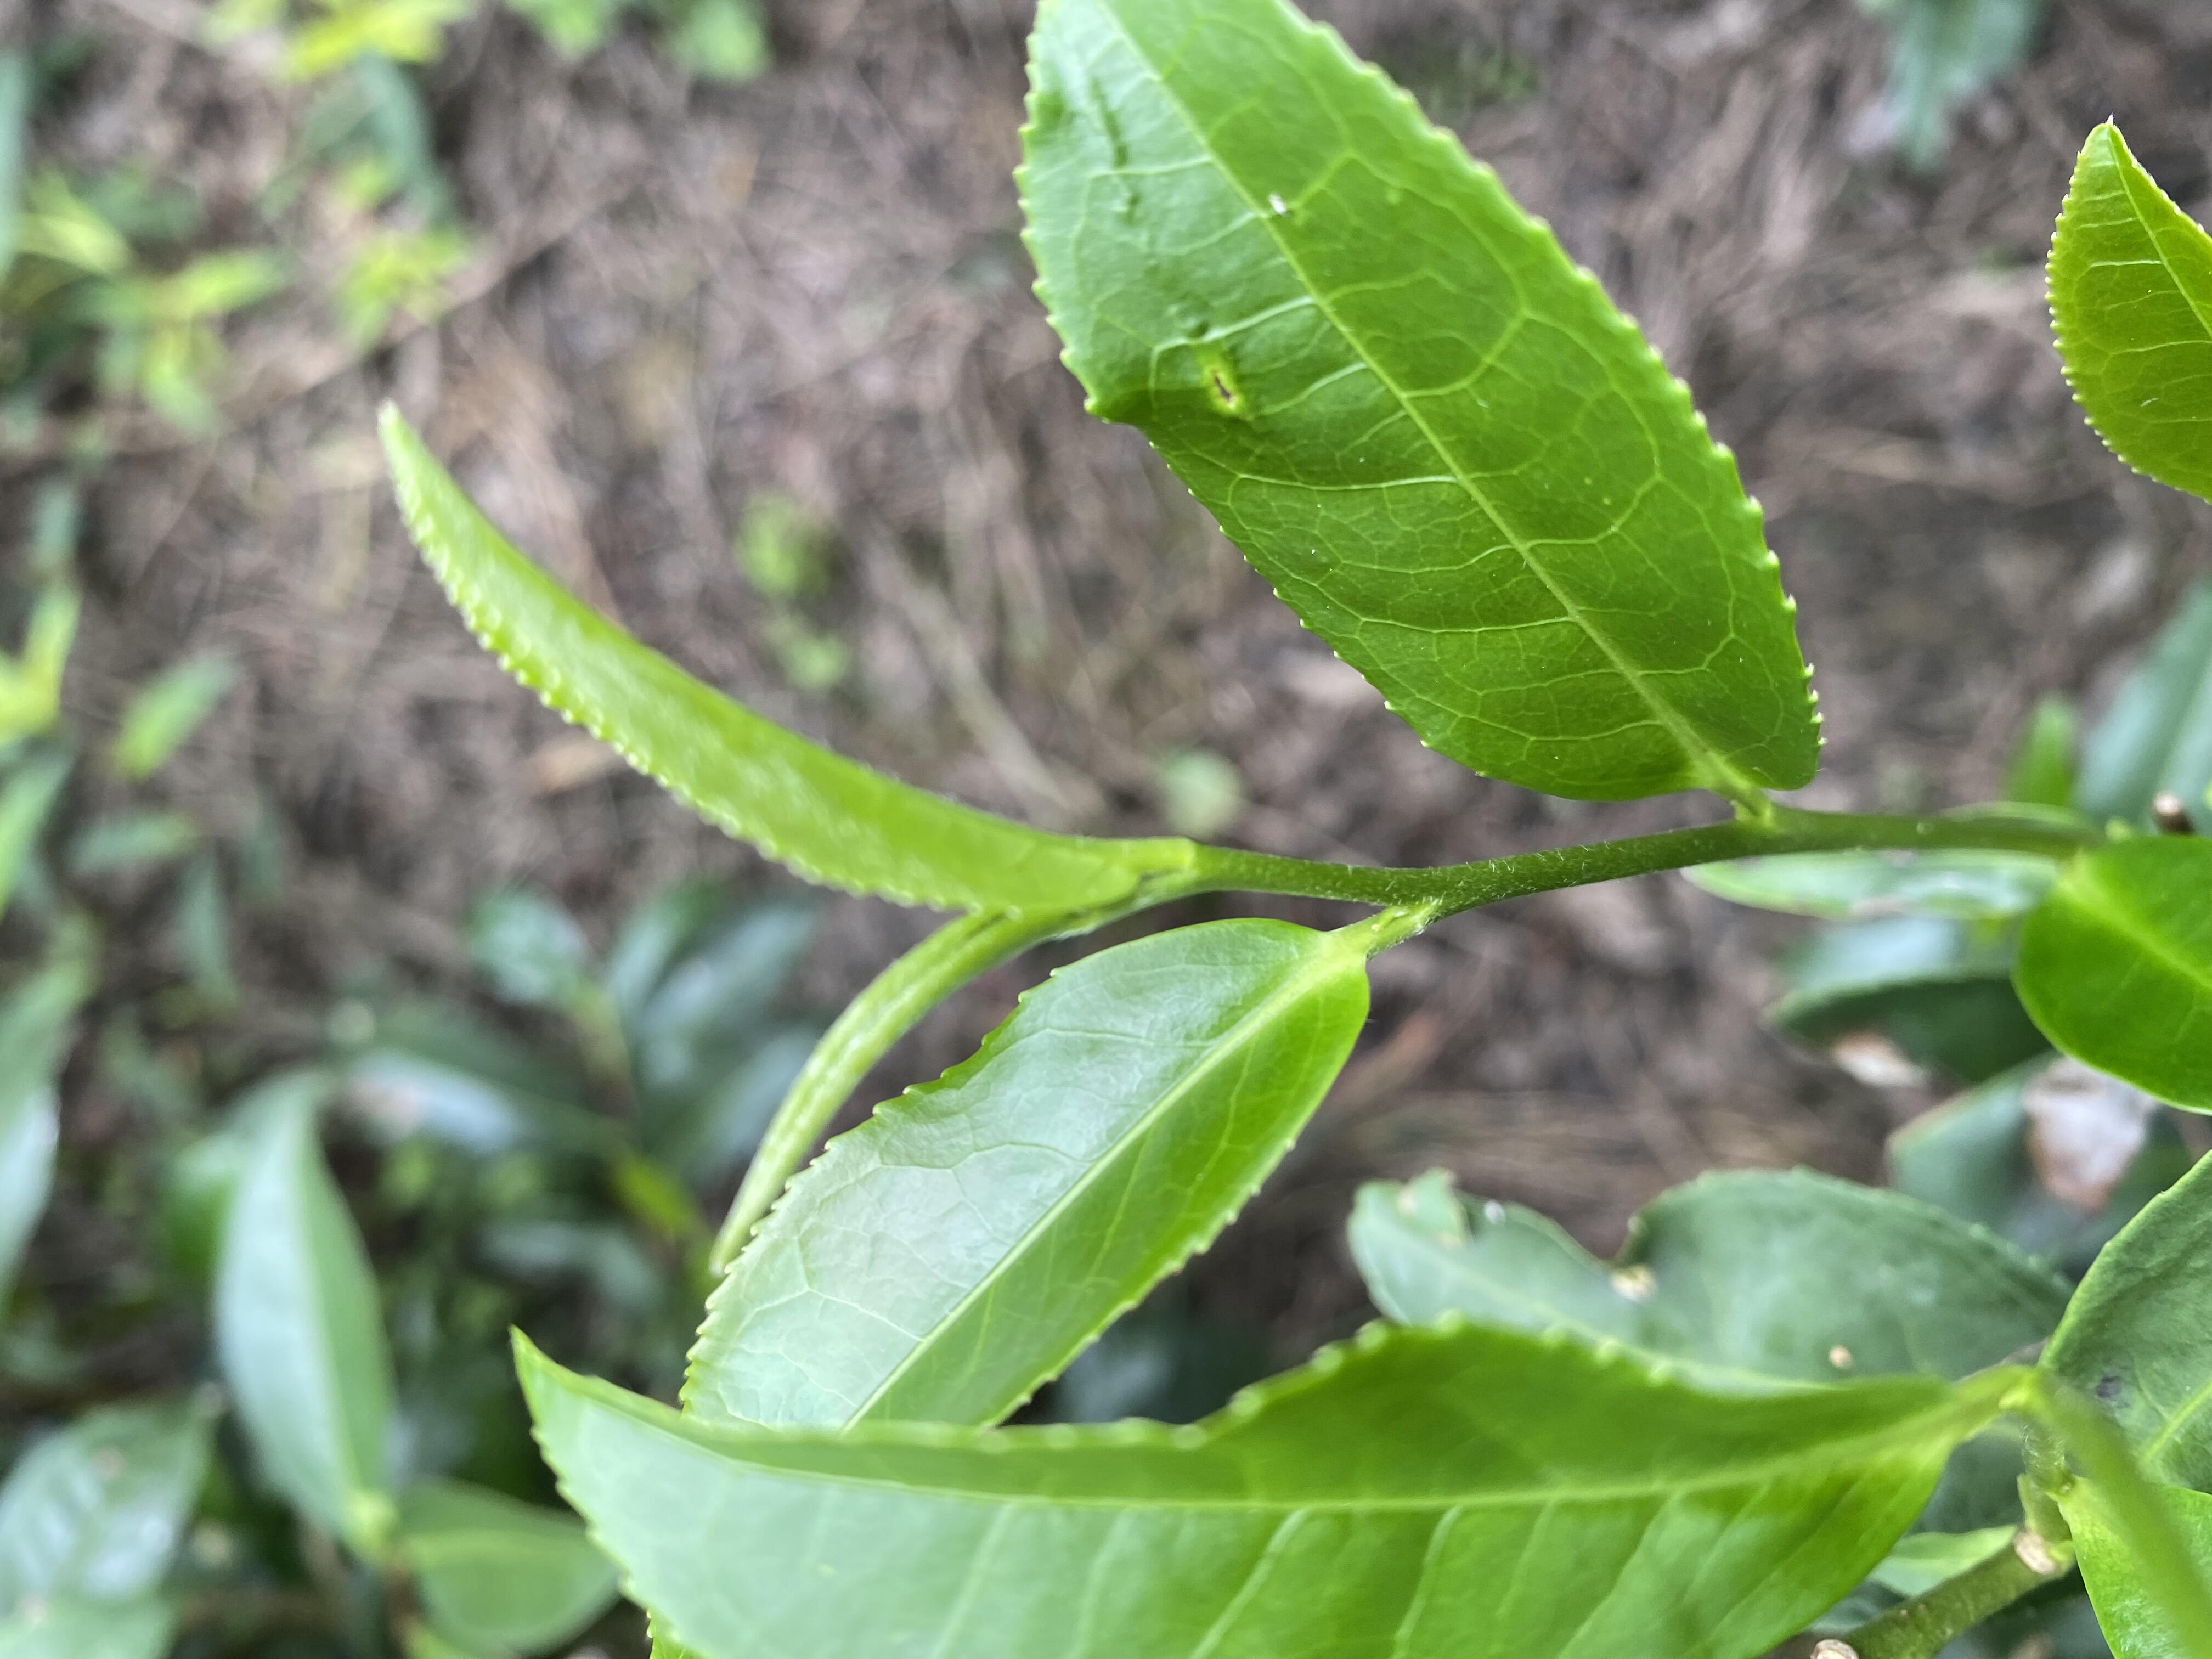healthy: (1014, 2, 1820, 807), (503, 1312, 1977, 1659), (676, 913, 1369, 1427), (2040, 115, 2210, 495)
